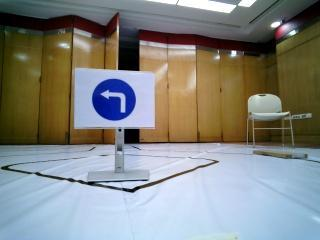left: (75, 74, 150, 128)
